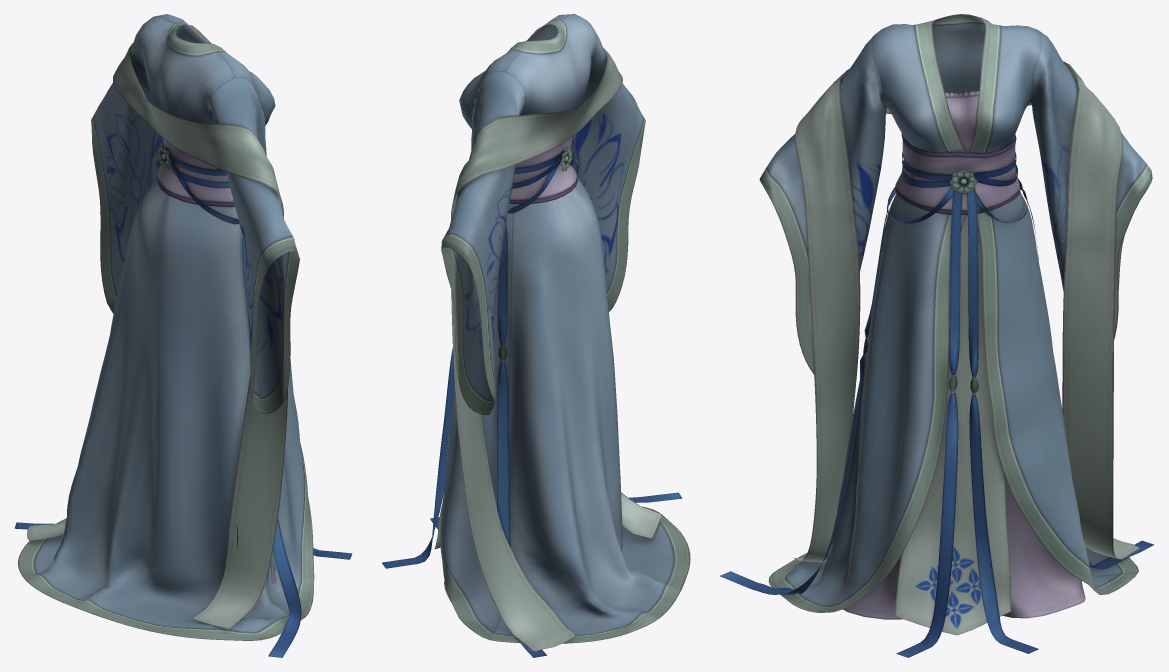
File: OBJ_Kimono Outfit.obj
3 views of the same model, side by side, from view 1: azimuth 30°, elevation 25°; view 2: azimuth 150°, elevation 25°; view 3: azimuth 270°, elevation 25° (orthographic). The views are drawn at different scales.
Parts seen in each view (by area): view 1: Kimono_Outfit; view 2: Kimono_Outfit; view 3: Kimono_Outfit.
Boxes of the visible parts, x1,y1,x2,y2 form: Kimono_Outfit: (14,14,352,657); Kimono_Outfit: (382,14,690,657); Kimono_Outfit: (720,14,1154,657).
Bounding box in the file's own units: 86.19 × 162 × 112.
Materials: 1 (1 with a texture image).
